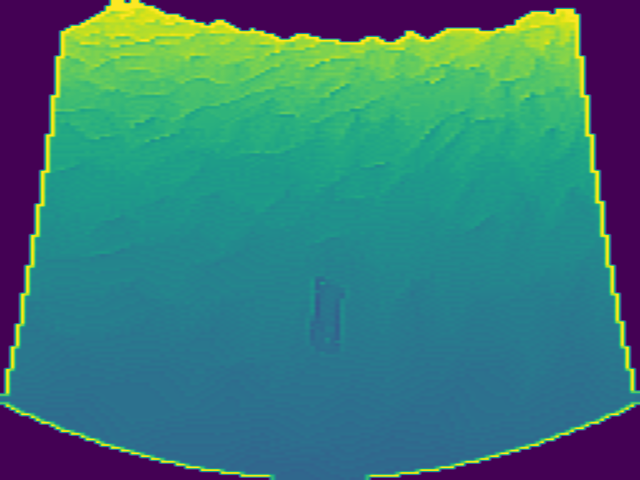car_0198: (310, 274, 343, 352)
